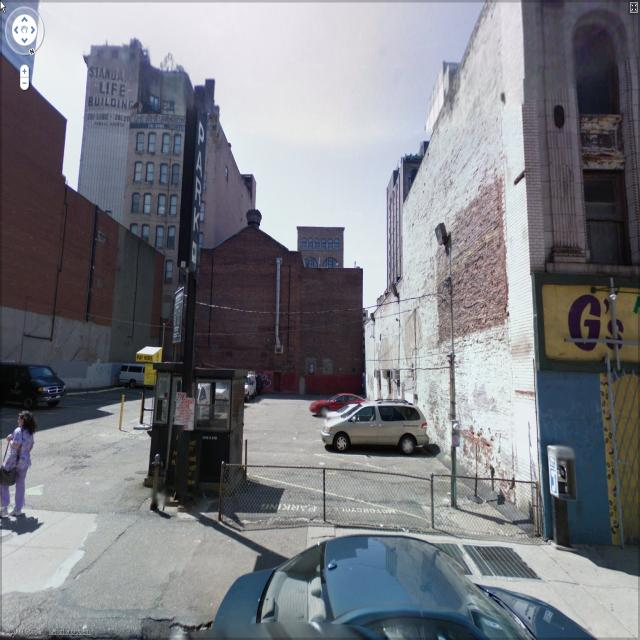b_1: (499, 1, 633, 538), (405, 19, 523, 470), (2, 111, 158, 373), (158, 249, 366, 392), (79, 33, 133, 211), (207, 112, 265, 264), (126, 106, 186, 248), (381, 138, 429, 302)
